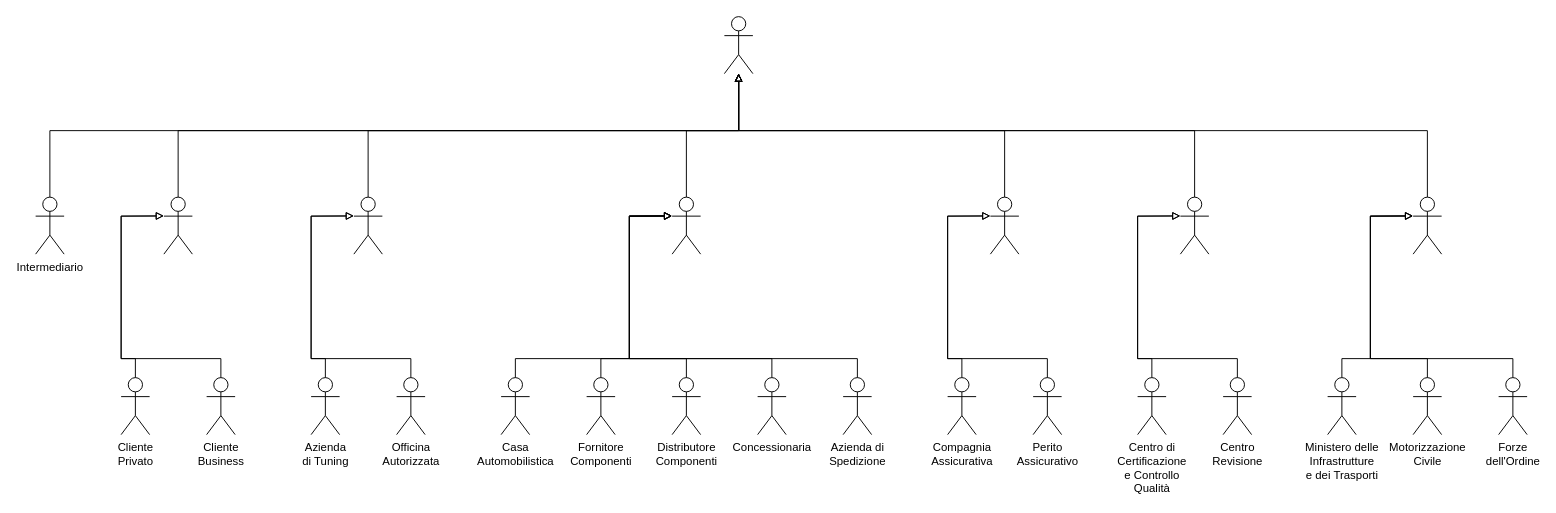
Image size: 1556x513. Some labels were removed from this diagram. The centre of each missing label's shape, as x and y in pixels:
"Attore Assicurativo" belongs at pixel 1004 225.
"Attore Commerciale" belongs at pixel 686 225.
"Autorità Pubblica" belongs at pixel 1427 225.
"Ente di Certificazione" belongs at pixel 1194 225.
"Operatore Tecnico" belongs at pixel 367 225.
"Stakeholder" belongs at pixel 738 45.
"Utente Finale" belongs at pixel 177 225.
